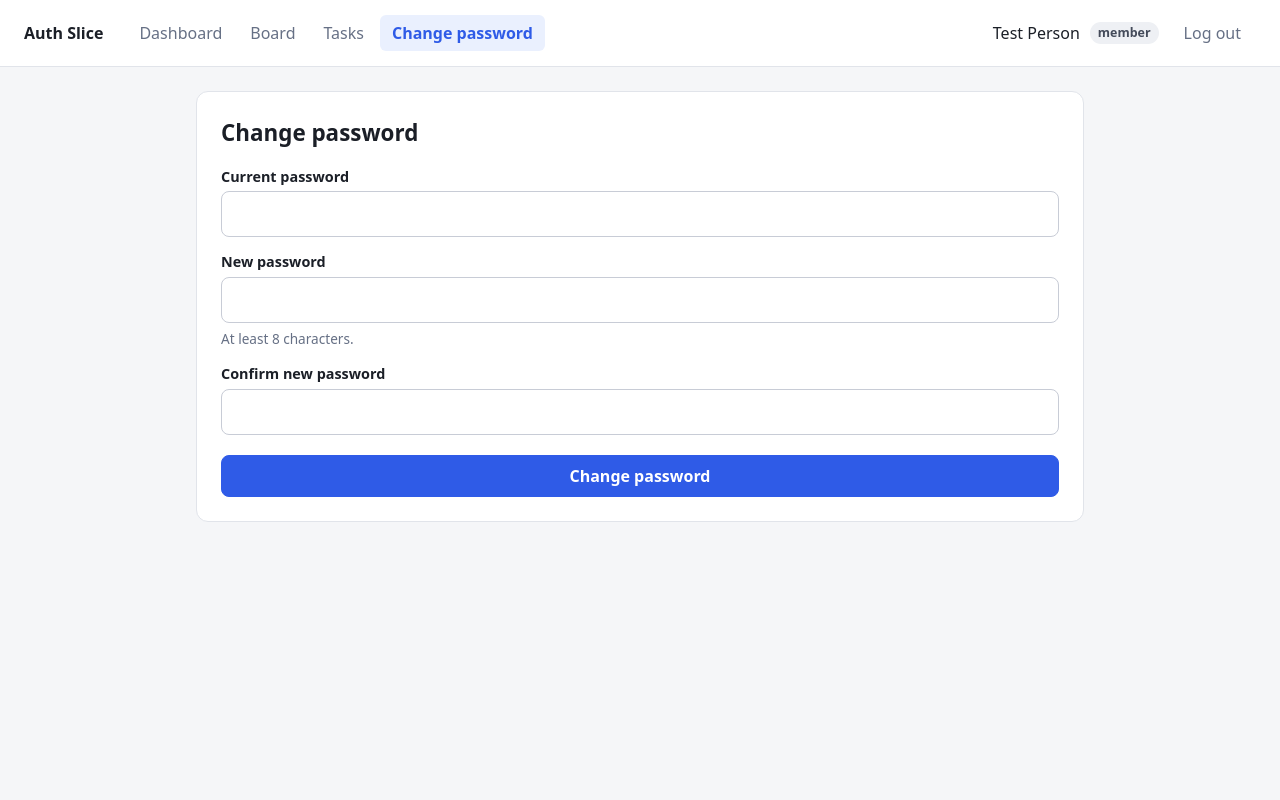
Test: change password › shows the server error when the current password is wrong
This screenshot has width=1280, height=800.
Type "wrong-current" into the password field labelled "Current password" at coordinates (640, 214), box [221,191,1059,237]
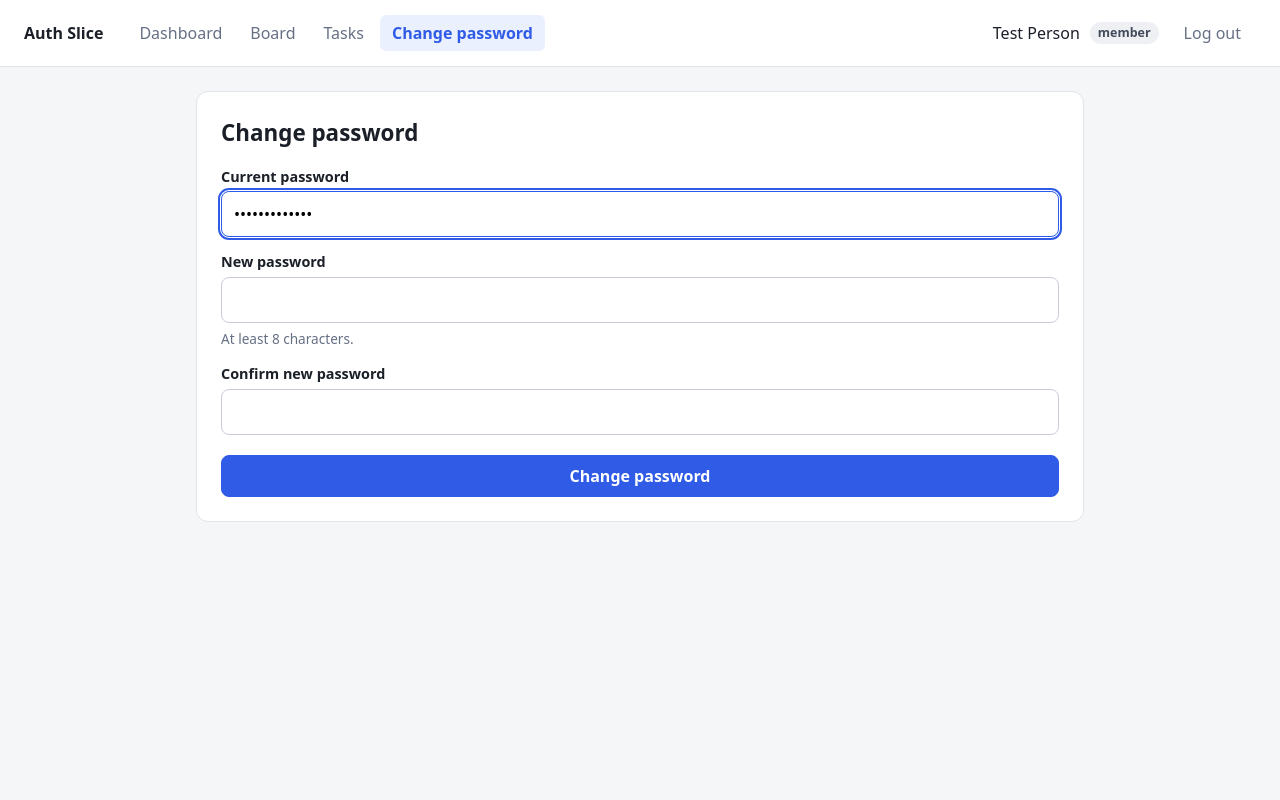
Type "new-password-123" into the password field labelled "New password" at coordinates (640, 300), box [221,277,1059,323]
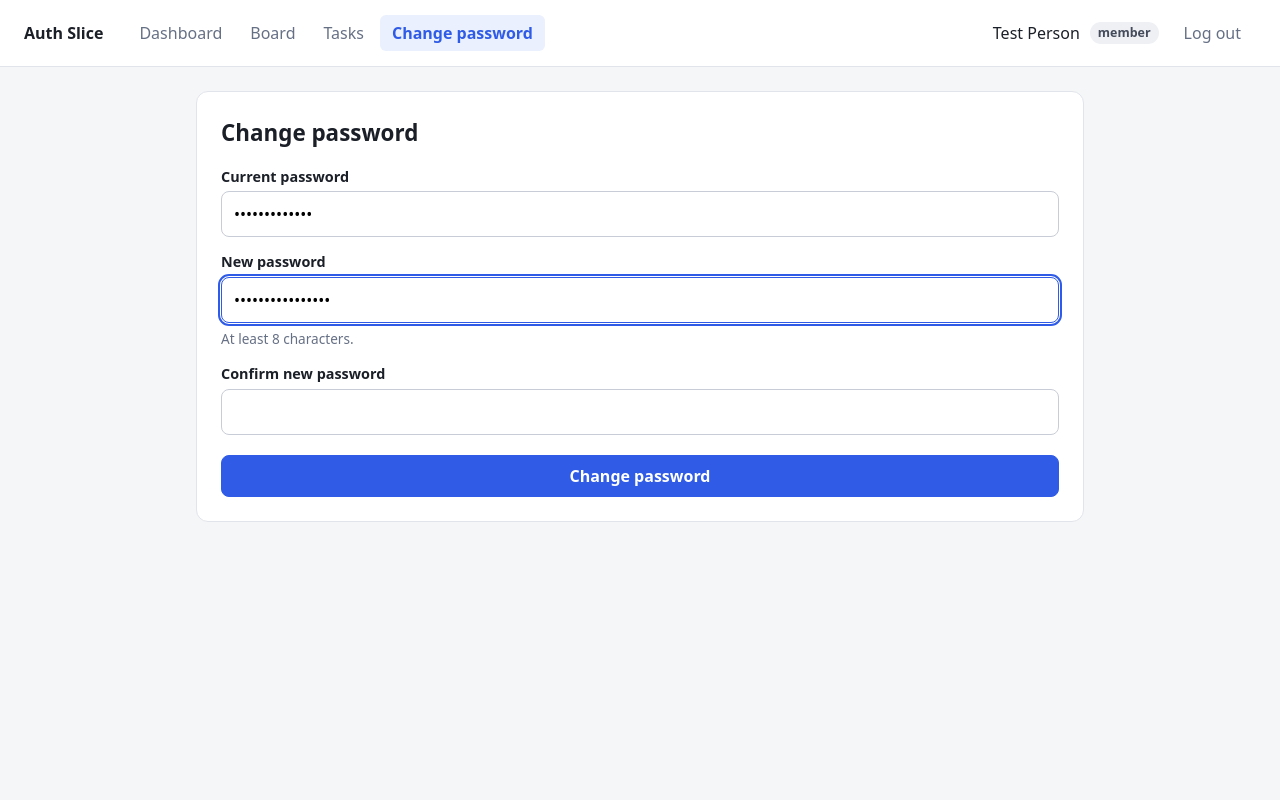
Type "new-password-123" into the password field labelled "Confirm new password" at coordinates (640, 412), box [221,389,1059,435]
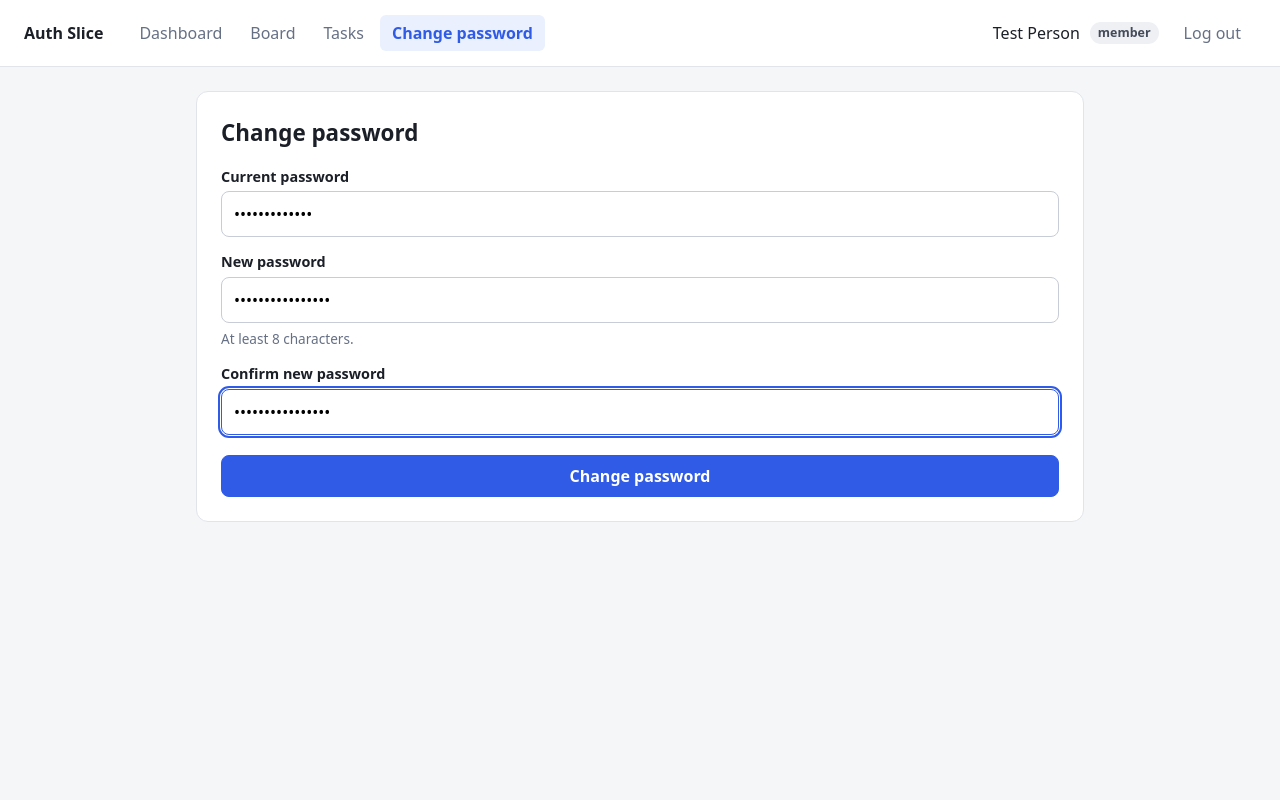
Click the button "Change password" at coordinates (640, 476), box [221,455,1059,497]
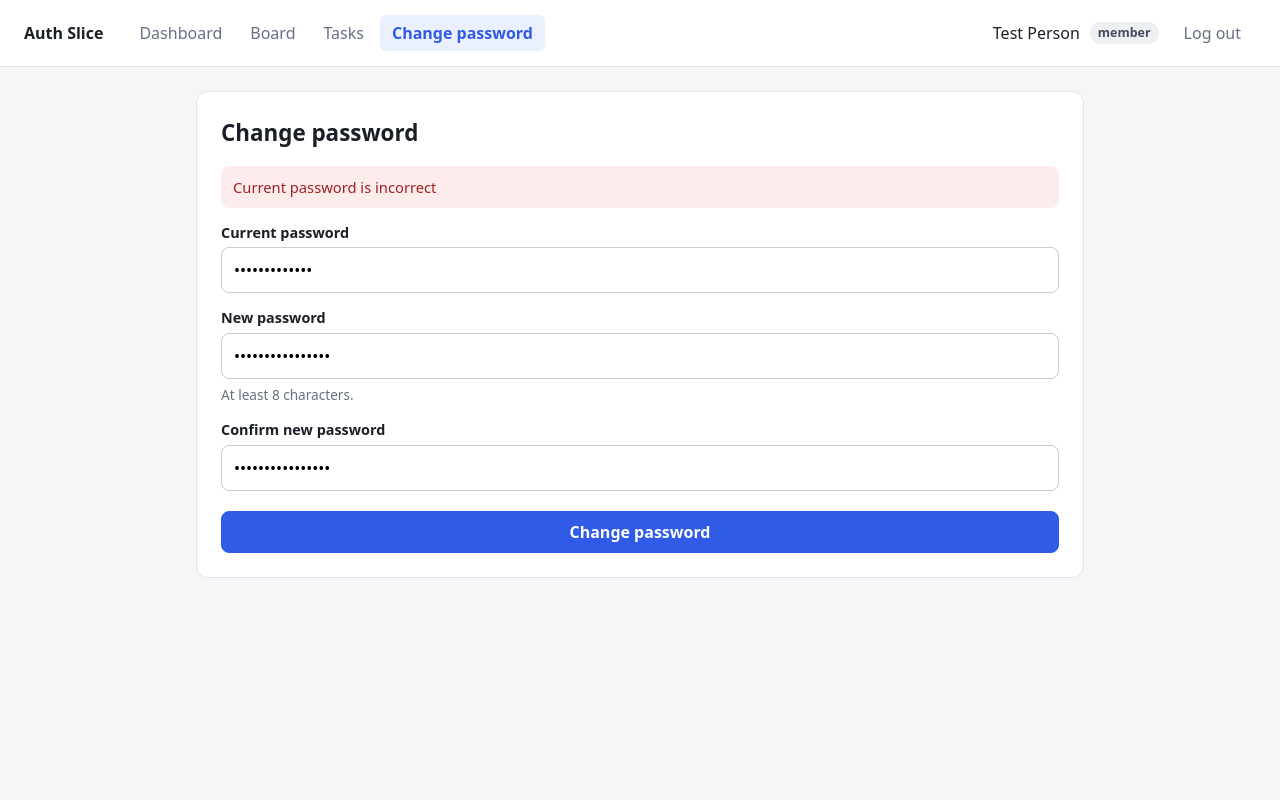
Expected: the message reads "Current password is incorrect", [233,177,436,197]
